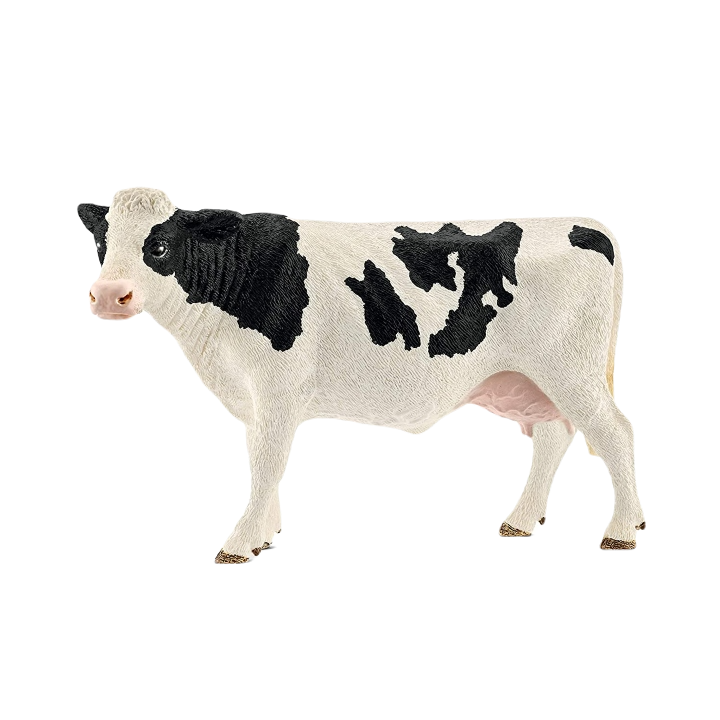Cow: (74, 186, 651, 566)
